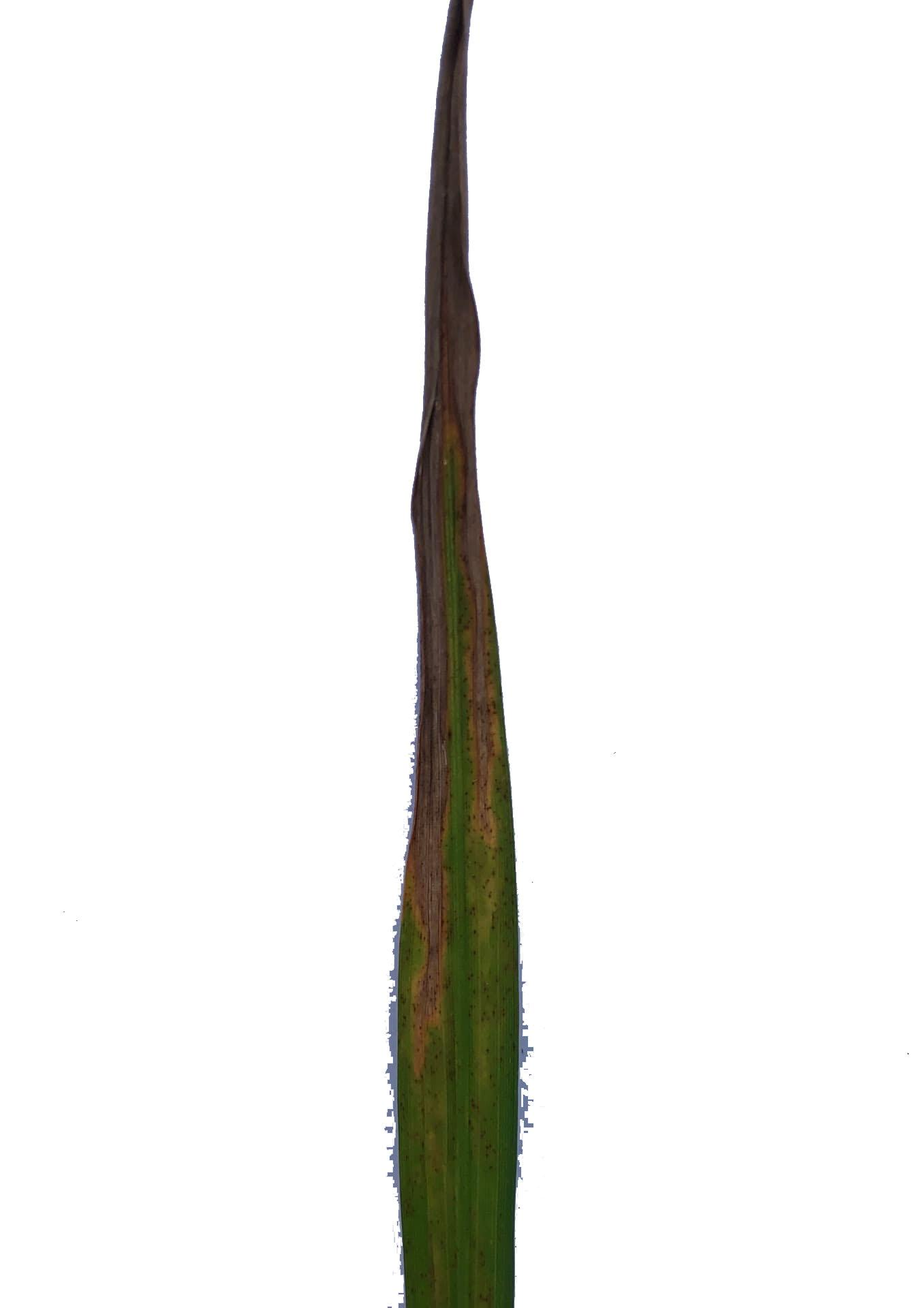Rice blast: (395, 0, 529, 1308)
